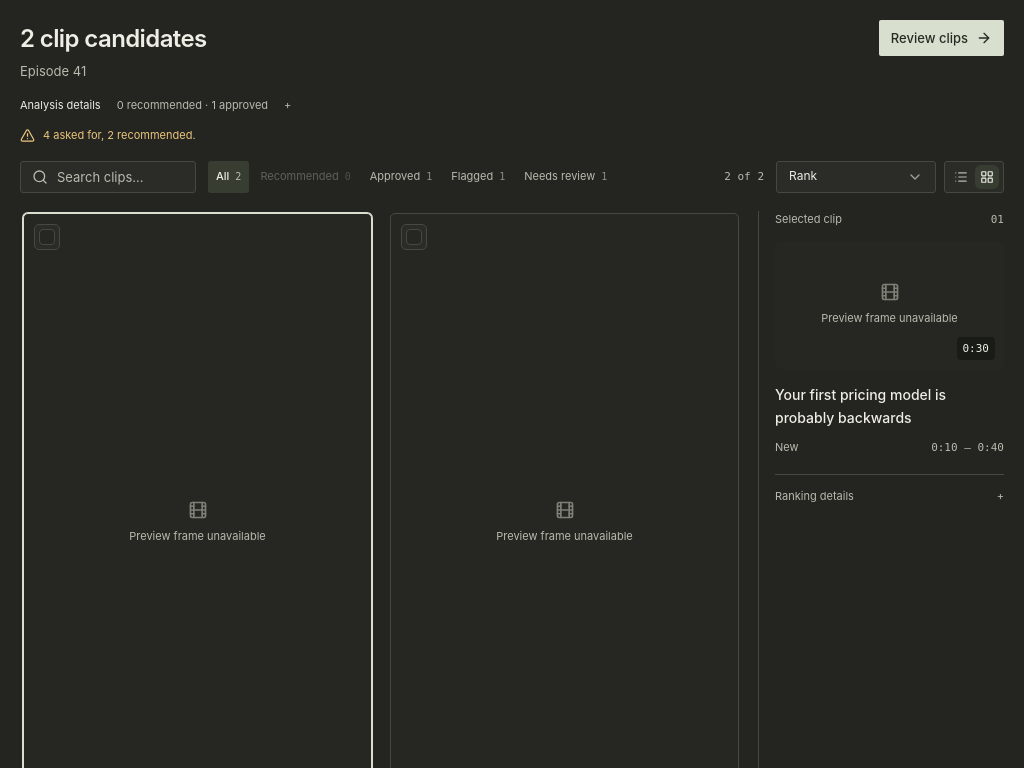
Test case: the board › says so rather than showing an empty table when nothing matches
This screenshot has width=1024, height=768.
Type "zzzz" into the search field at (108, 176), box [20, 160, 196, 192]
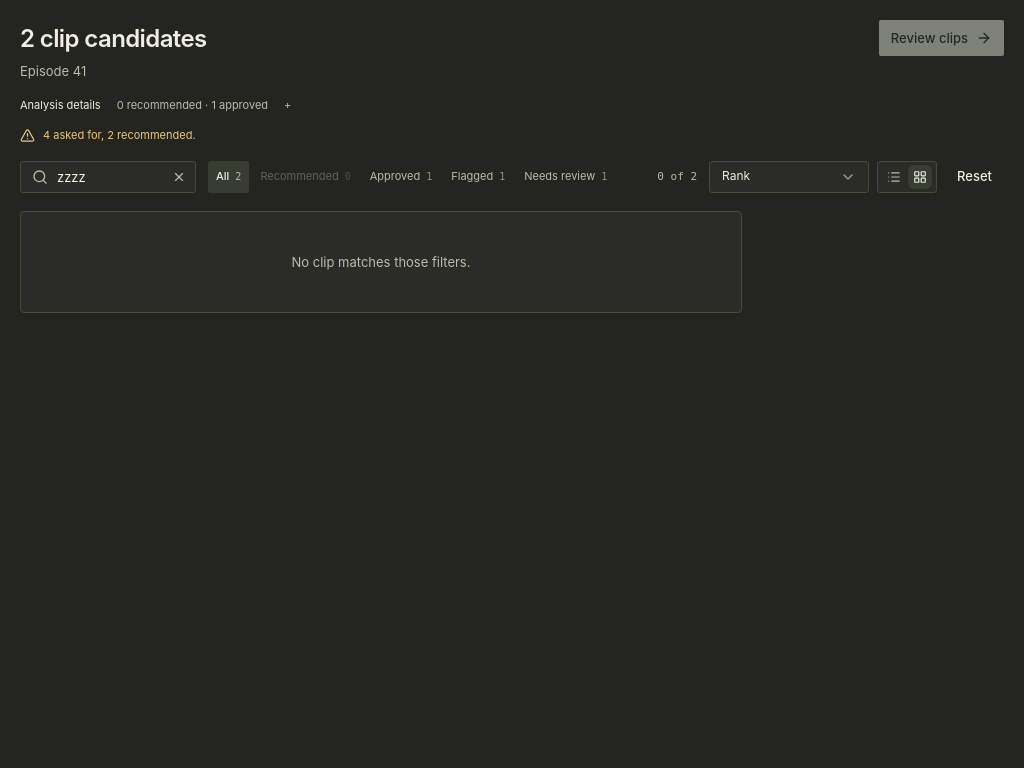
Check: the text "No clip matches those filters." is shown, box [292, 252, 470, 272]
